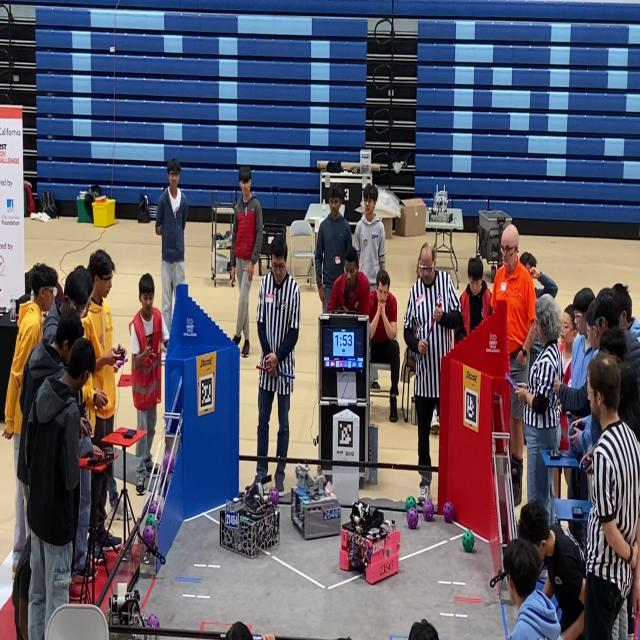artifact_green: (462, 530, 474, 552), (405, 496, 416, 511), (146, 514, 156, 526)
artifact_purple: (148, 500, 161, 520), (163, 451, 174, 474), (143, 526, 155, 547), (443, 501, 454, 523), (423, 499, 434, 521), (407, 508, 418, 529), (146, 614, 160, 629), (269, 488, 279, 506), (149, 499, 158, 513), (155, 506, 161, 521)
